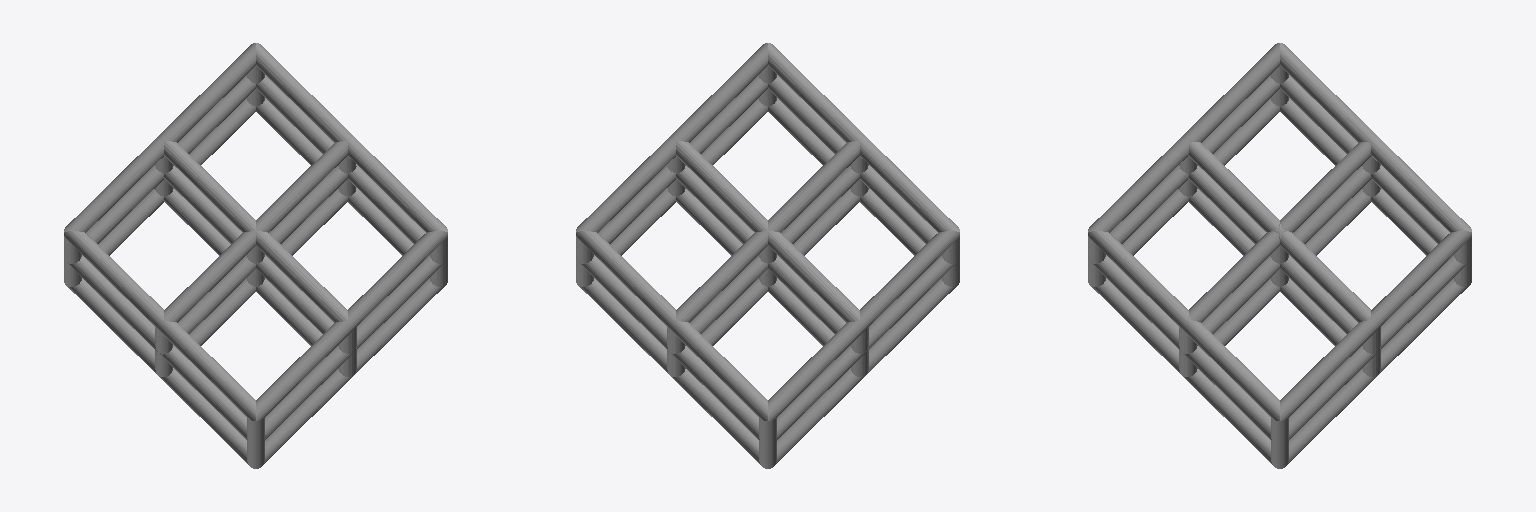
The picture shows the model from 3 angles: view 1: azimuth 30°, elevation 25°; view 2: azimuth 150°, elevation 25°; view 3: azimuth 270°, elevation 25°; orthographic projection.
Parts seen in each view (by area): view 1: Lattice_Cube_no_base; view 2: Lattice_Cube_no_base; view 3: Lattice_Cube_no_base.
Boxes of the visible parts, box(x1,y1,x2,y2) form: Lattice_Cube_no_base: box(64, 43, 447, 468); Lattice_Cube_no_base: box(576, 43, 959, 468); Lattice_Cube_no_base: box(1088, 43, 1471, 468).
Size of the model in its own units: 121 by 129 by 105.
Materials: 1 (1 with a texture image).